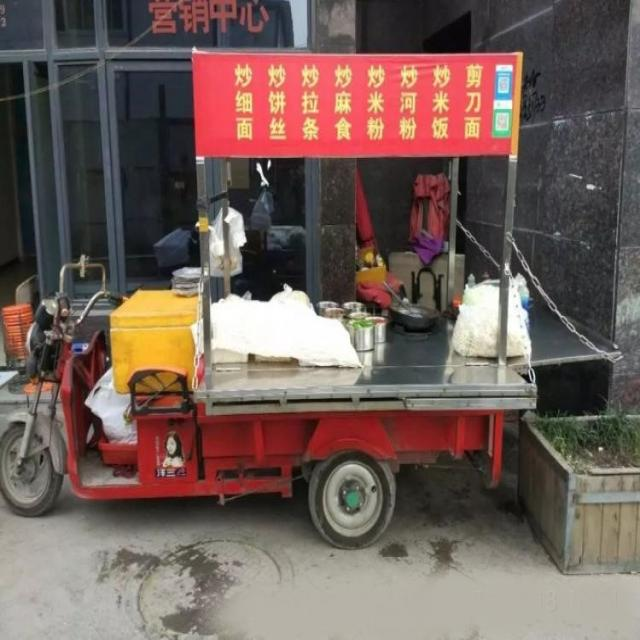tricycle: (0, 50, 538, 549)
